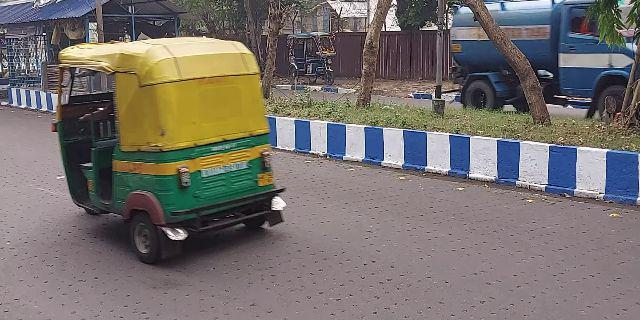Autorickshaw: (53, 42, 294, 276)
